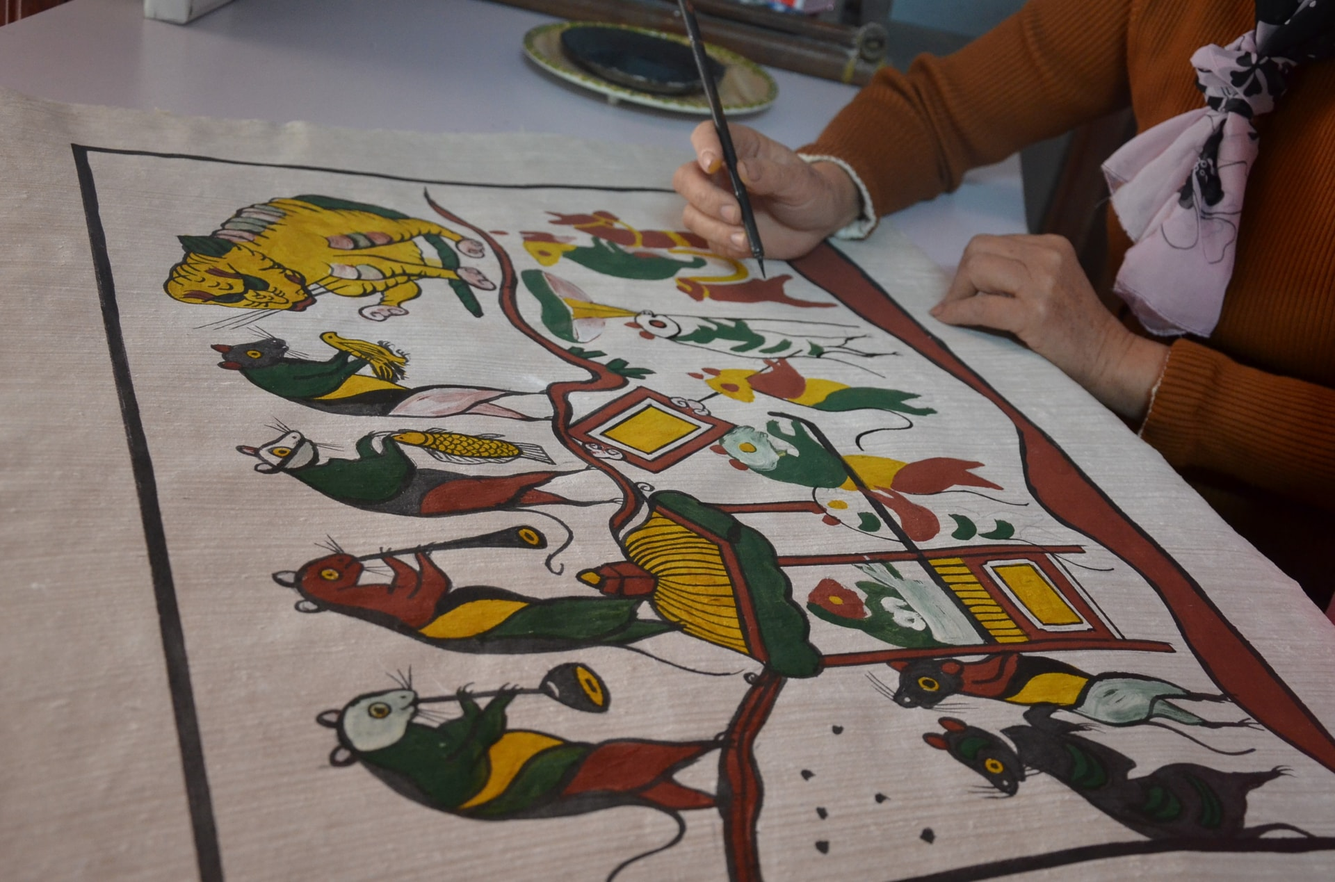chuot_chu_re: (521, 211, 820, 306)
chuot_co_dau: (578, 491, 1173, 677)
chuot_khenh_kieu: (889, 655, 1307, 838), (711, 414, 1003, 541), (949, 514, 1014, 540)
chuot_mang_le_vat: (237, 425, 598, 516), (213, 332, 530, 420)
chuot_nguoi_hau: (522, 270, 934, 415)
chuot_nhac_cong: (317, 659, 721, 847), (276, 526, 681, 656)
ho_uy_nghi: (164, 195, 494, 320)
